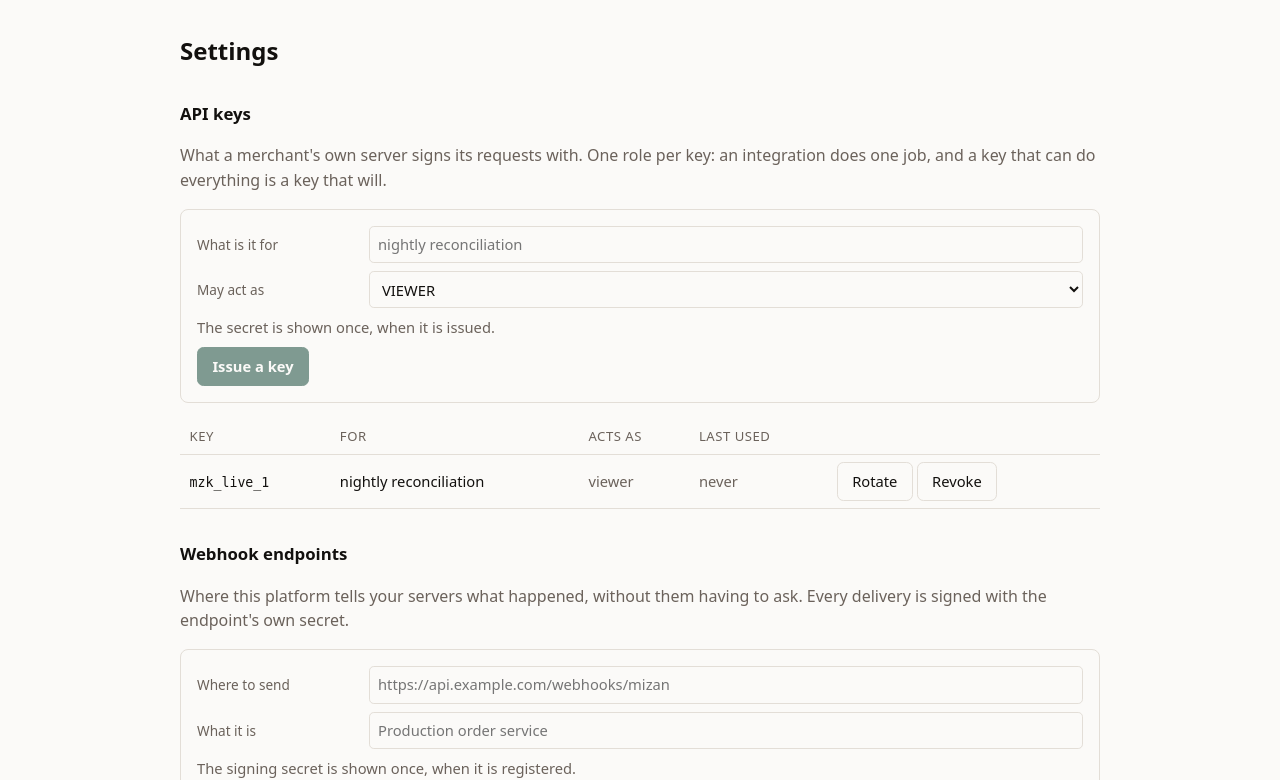
it: keys › shows the secret once, and only on the way out
expect the text "nightly reconciliation" is shown: met, box 330,454 -> 579,509
Type "a new one" into the field labelled "What is it for" at x=726, y=245, box 369,226 -> 1083,263
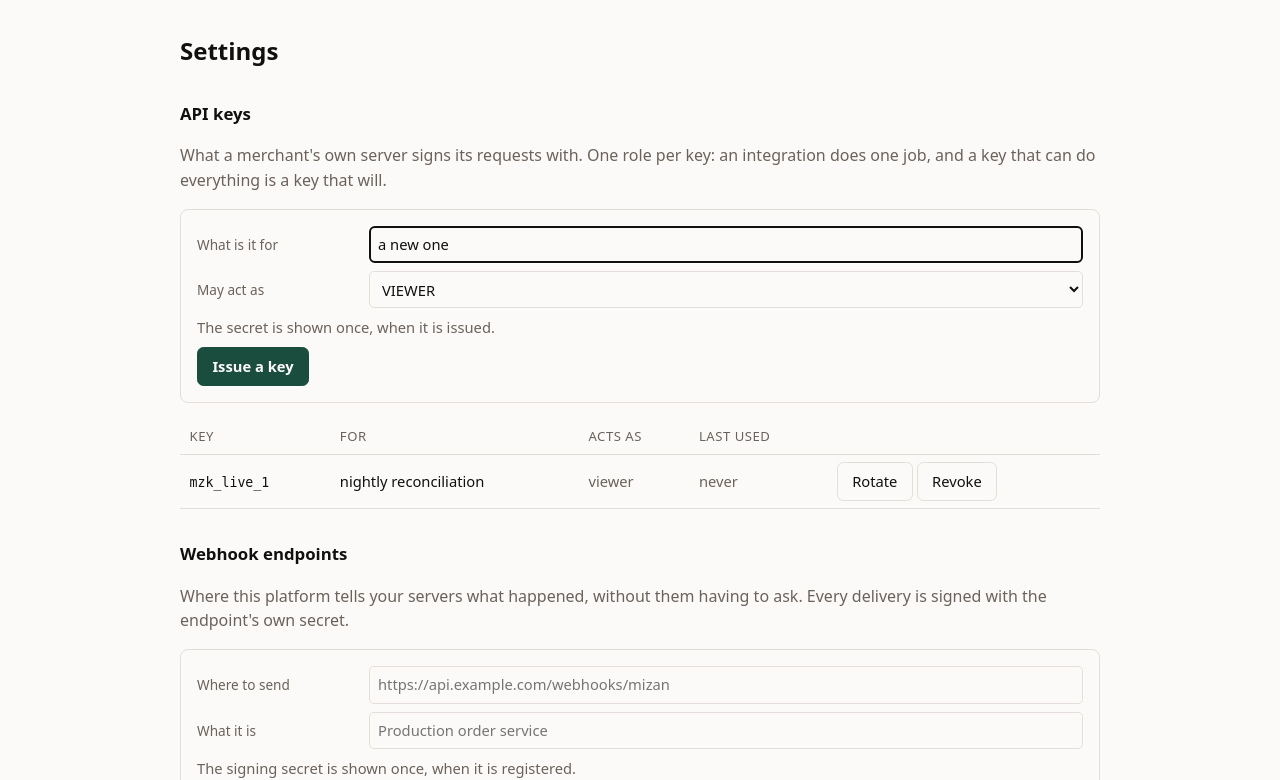
Click the button "Issue a key" at x=253, y=367, box 197,347 -> 309,386
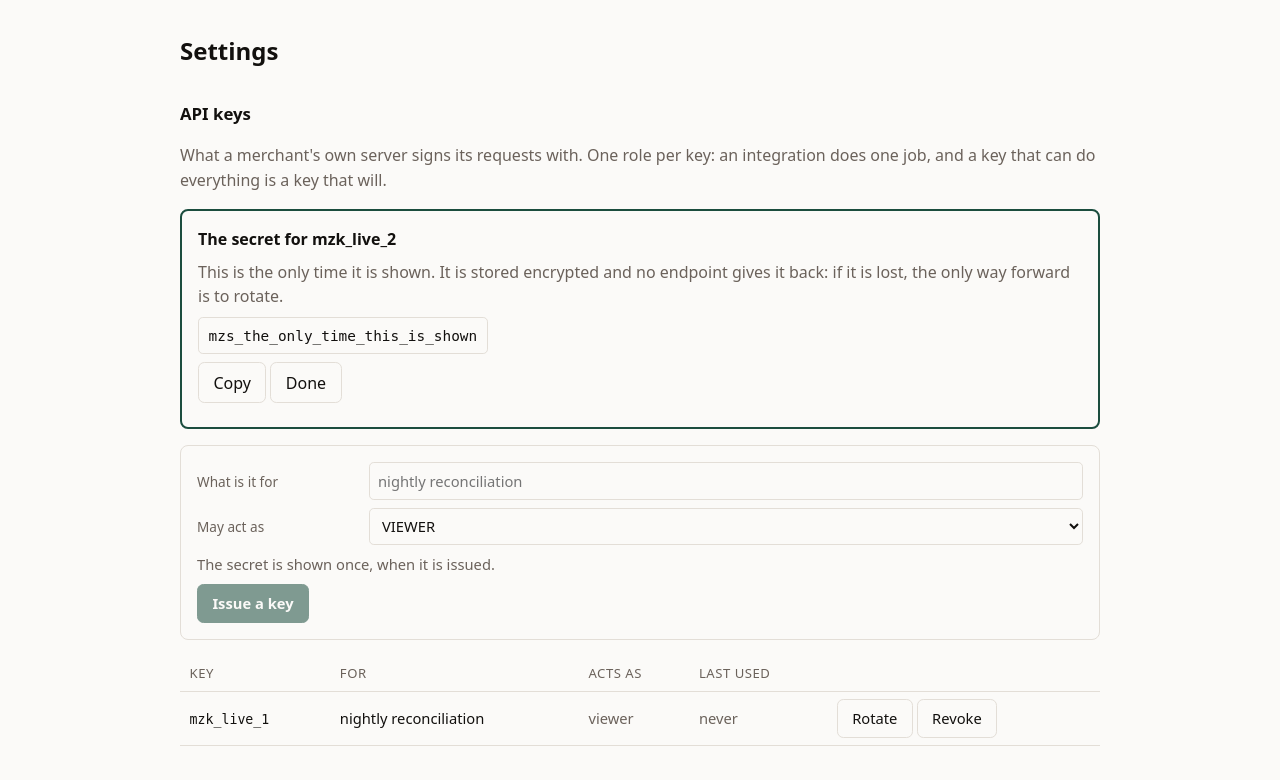
expect the text "mzs_the_only_time_this_is_shown" is shown: met, box 198,317 -> 488,354
expect the text "only time it is shown" is shown: met, box 198,261 -> 1070,307
